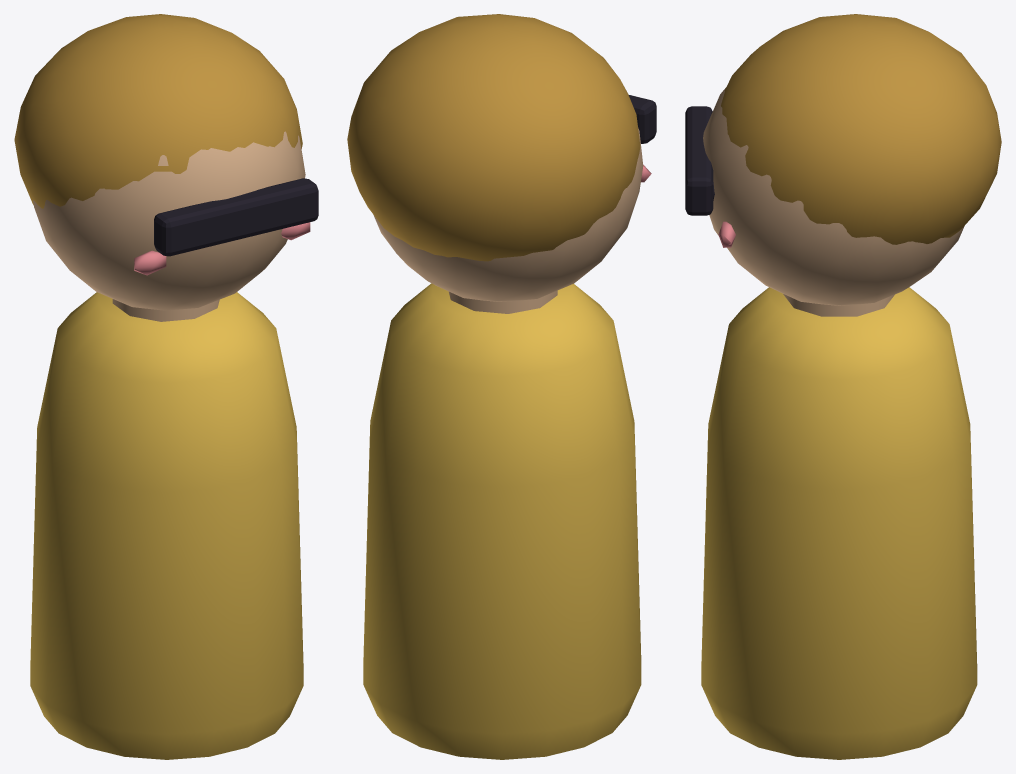
File: person_sunglasses.fbx
The picture shows the model from 3 angles, left to right: view 1: azimuth 30°, elevation 25°; view 2: azimuth 150°, elevation 25°; view 3: azimuth 270°, elevation 25°; orthographic projection.
Visible parts, largest first — view 1: Body, Head; view 2: Body, Head; view 3: Body, Head.
Boxes of the visible parts, <box> form: Body: <box>30,292,303,759</box>; Head: <box>14,14,318,310</box>; Body: <box>363,283,641,759</box>; Head: <box>347,14,656,301</box>; Body: <box>701,287,977,759</box>; Head: <box>685,14,1001,305</box>.
Size of the model in its own units: 0.208 by 0.5394 by 0.226.
